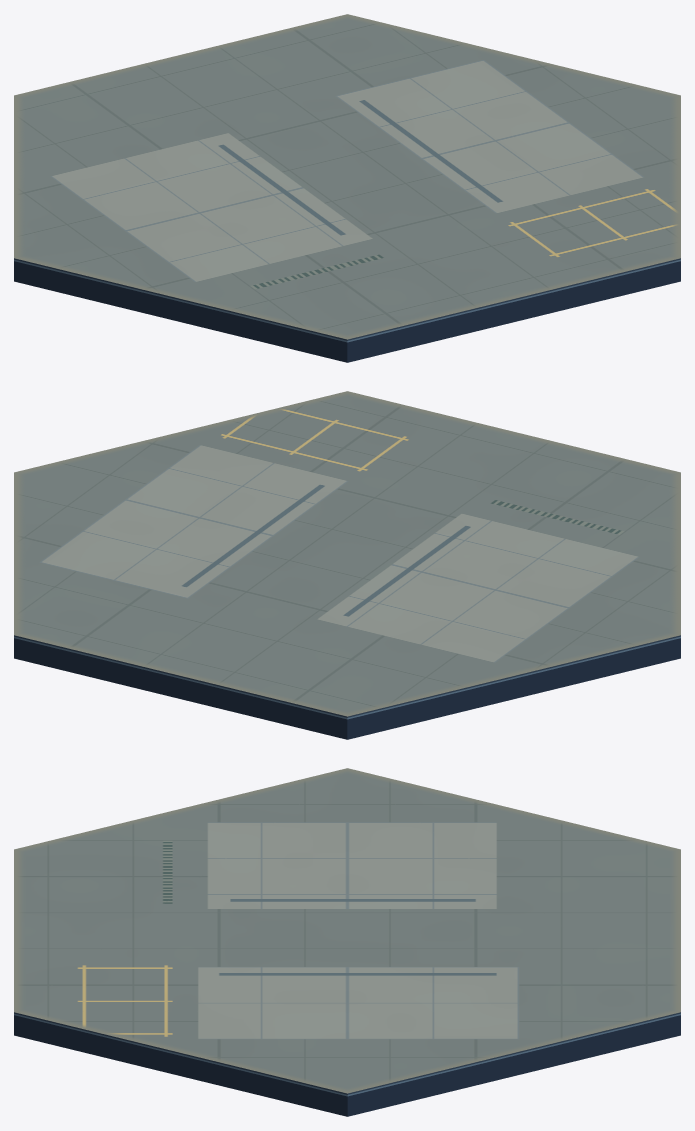
The model's file is campus_tile_utility_v01.glb.
3 views of the same model, one above another, from view 1: azimuth 30°, elevation 25°; view 2: azimuth 150°, elevation 25°; view 3: azimuth 270°, elevation 25° (orthographic).
Visible parts, largest first — view 1: campus_tile_utility; view 2: campus_tile_utility; view 3: campus_tile_utility.
Part boxes in pixels (x1,y1,x2,y2): campus_tile_utility: (14, 14, 680, 362); campus_tile_utility: (14, 391, 680, 739); campus_tile_utility: (14, 768, 680, 1116).
Bounding box in the file's own units: 36 × 1.2 × 31.18.
1 material, 1 textured.
